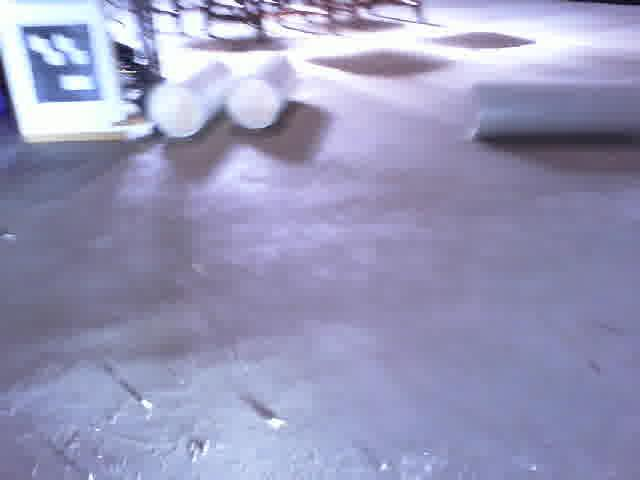coral: (467, 70, 640, 145), (144, 57, 235, 146), (222, 53, 299, 136)
